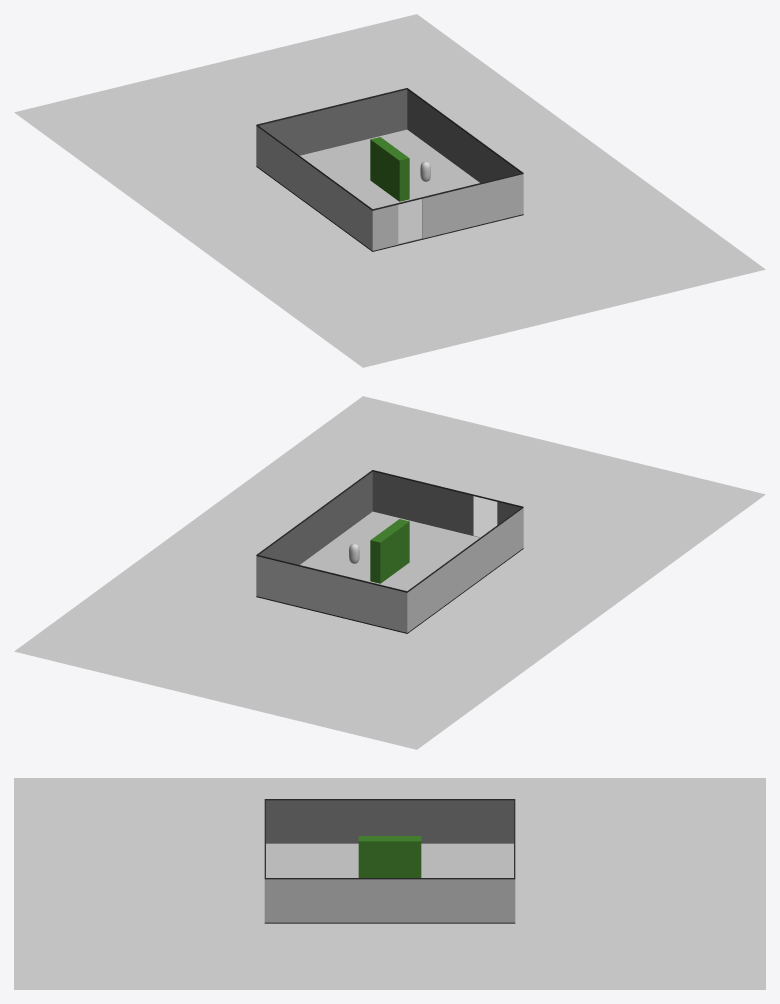
File: TECHNICAL DIRECTION.fbx
3 views of the same model, one above another, from view 1: azimuth 30°, elevation 25°; view 2: azimuth 150°, elevation 25°; view 3: azimuth 270°, elevation 25° (orthographic). The views are drawn at different scales.
Visible parts, largest first — view 1: Plane, house, hedge 1x4, hedgeDoorWay 1x4; view 2: Plane, house, hedge 1x4, hedgeDoorWay 1x4; view 3: Plane, house, hedge 1x4, hedgeDoorWay 1x4.
Part boxes in pixels (x1,y1,x2,y2): Plane: (14, 14, 765, 367); house: (256, 88, 523, 251); hedge 1x4: (370, 137, 409, 201); hedgeDoorWay 1x4: (370, 137, 409, 200); Plane: (14, 396, 765, 749); house: (256, 470, 523, 633); hedge 1x4: (370, 519, 409, 583); hedgeDoorWay 1x4: (370, 524, 409, 582); Plane: (14, 778, 765, 989); house: (264, 799, 515, 923); hedge 1x4: (358, 836, 421, 877); hedgeDoorWay 1x4: (358, 836, 421, 877).
Bounding box in the file's own units: 4000 × 400 × 6000.
